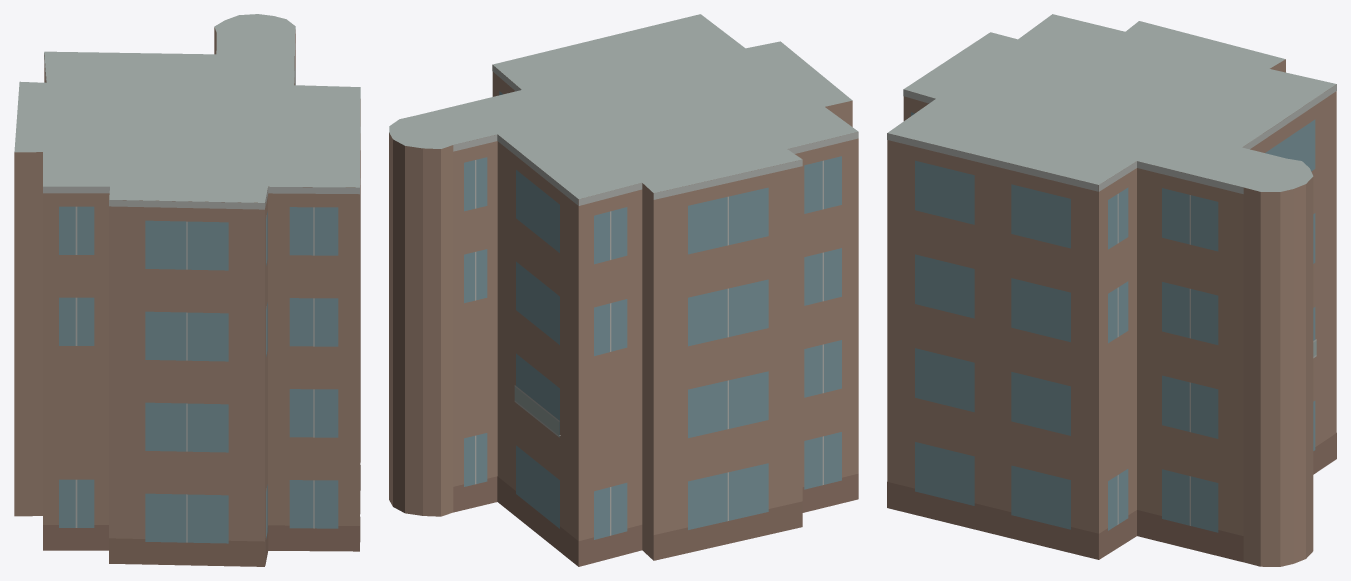
Rendered from survey-upis-32862181.glb.
3 views of the same model, side by side, from view 1: azimuth 30°, elevation 25°; view 2: azimuth 150°, elevation 25°; view 3: azimuth 270°, elevation 25° (orthographic). The views are drawn at different scales.
Visible parts, largest first — view 1: survey-upis-32862181.tmp; view 2: survey-upis-32862181.tmp; view 3: survey-upis-32862181.tmp.
Part boxes in pixels (x1,y1,x2,y2): survey-upis-32862181.tmp: [14, 14, 360, 566]; survey-upis-32862181.tmp: [389, 14, 858, 566]; survey-upis-32862181.tmp: [887, 14, 1336, 566].
Bounding box in the file's own units: 13.55 × 13.3 × 14.46.
